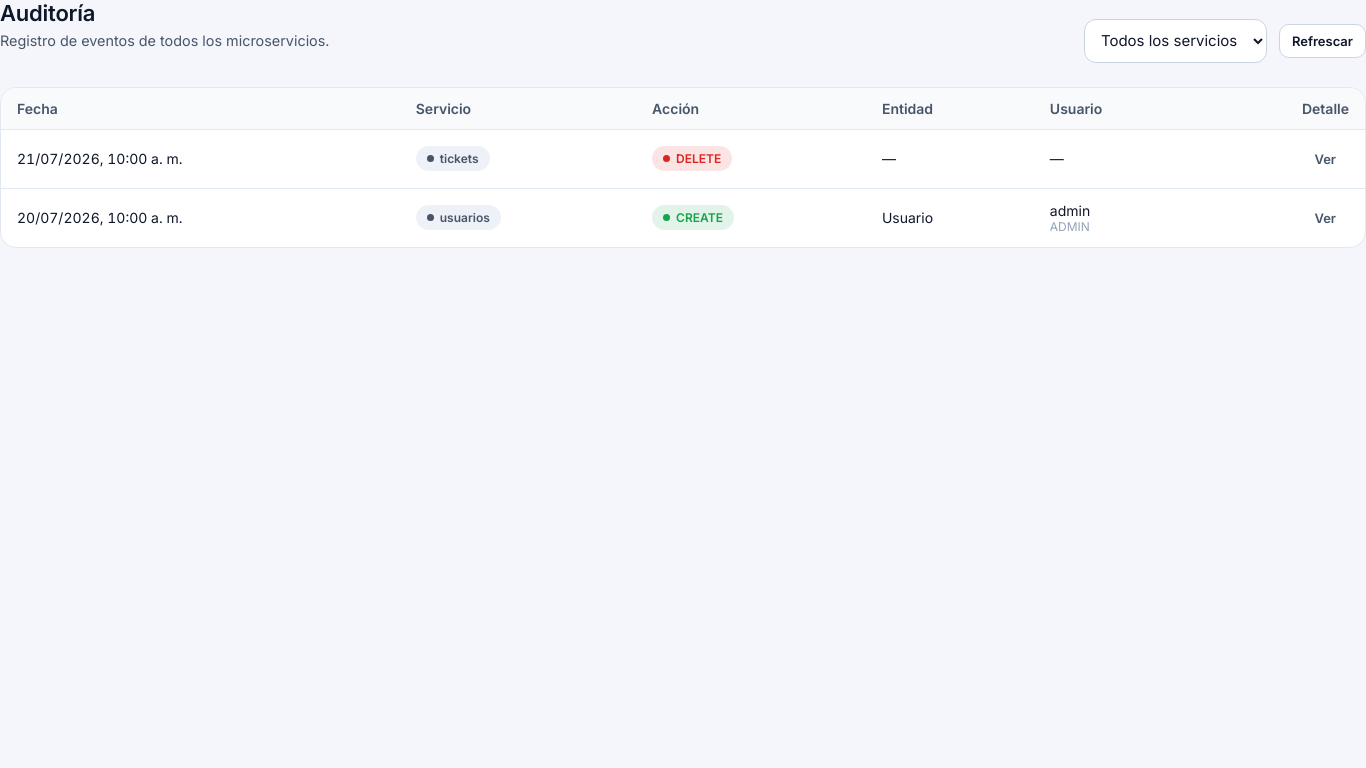
AuditoriaPage › abre detalle con datos
Click the button "Ver" in the row of "20/07/2026, 10:00 a. m.". click: x=1325, y=218
box: [1301,201,1349,235]
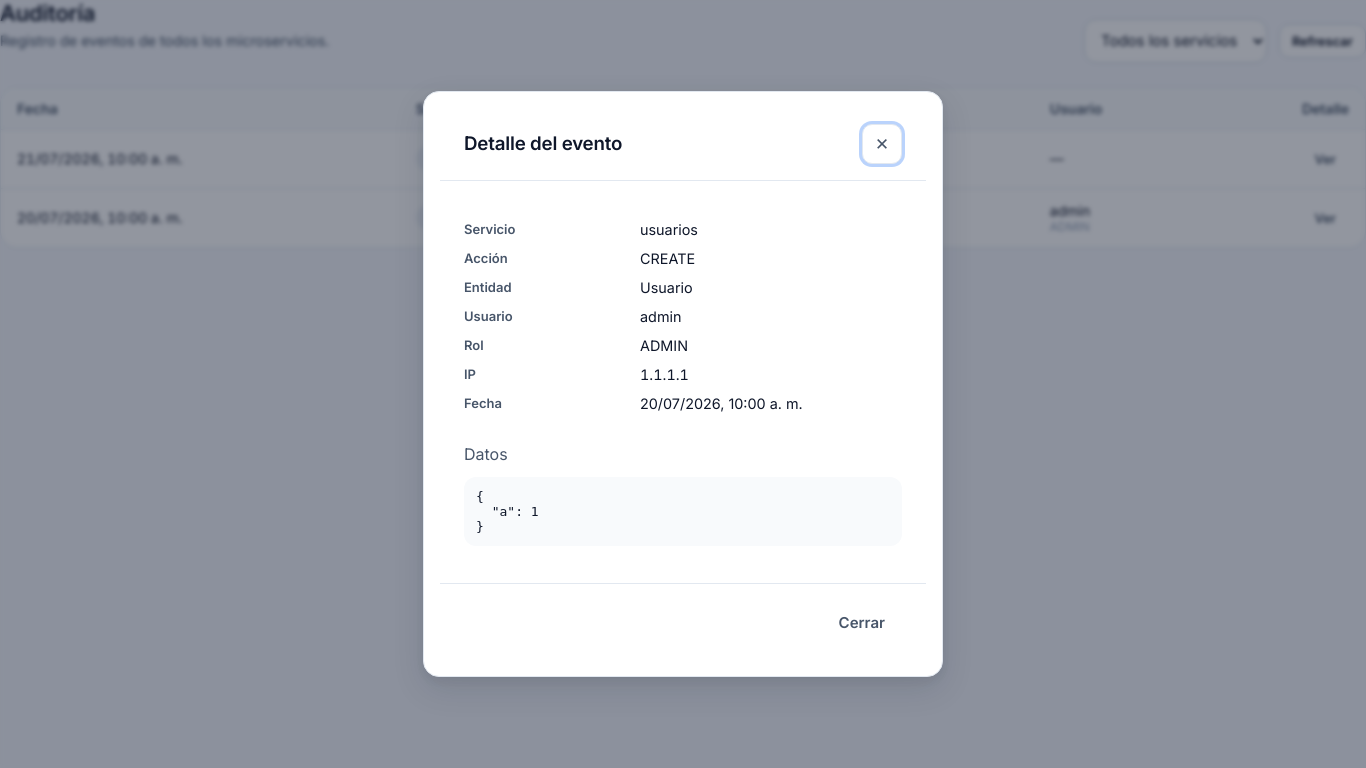
expect the heading "Detalle del evento" is shown: met, box [464,132,622,156]
expect the text "1.1.1.1" is shown: met, box [640,366,689,383]
